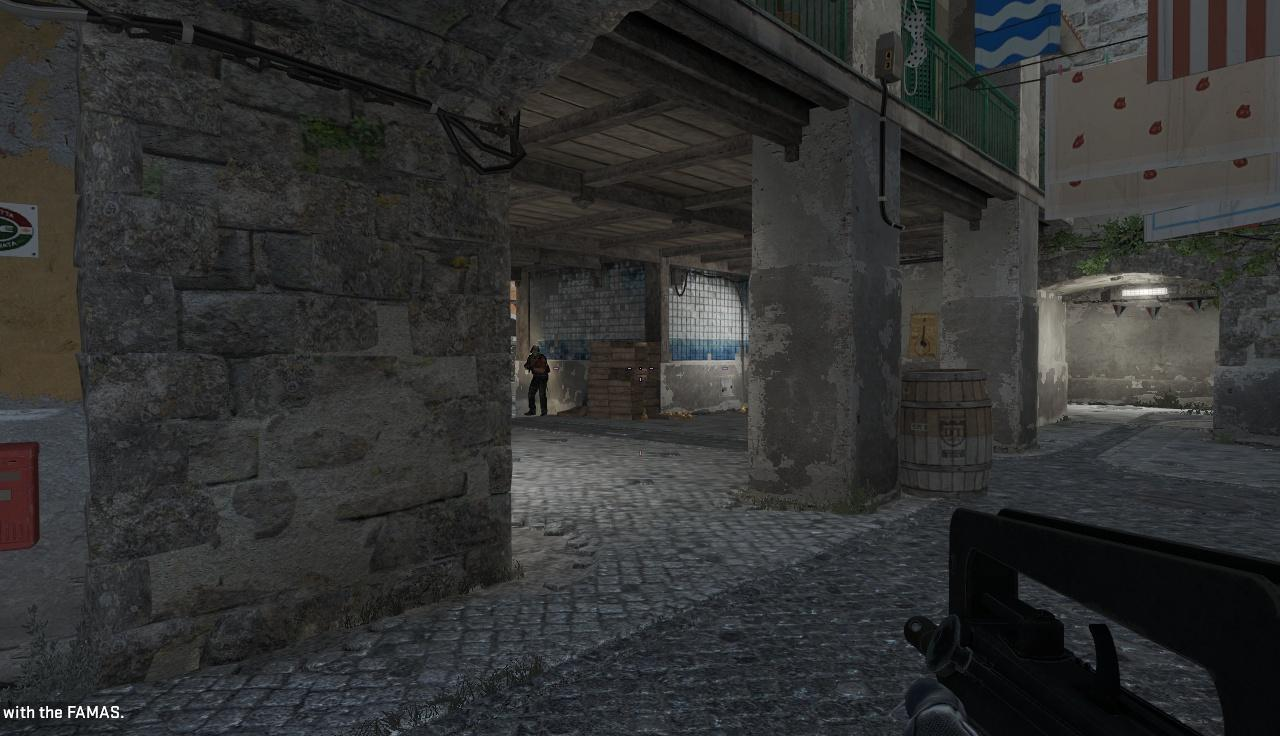rifle: (905, 514, 1280, 736)
tt: (528, 344, 548, 415)
tthead: (530, 345, 541, 358)
